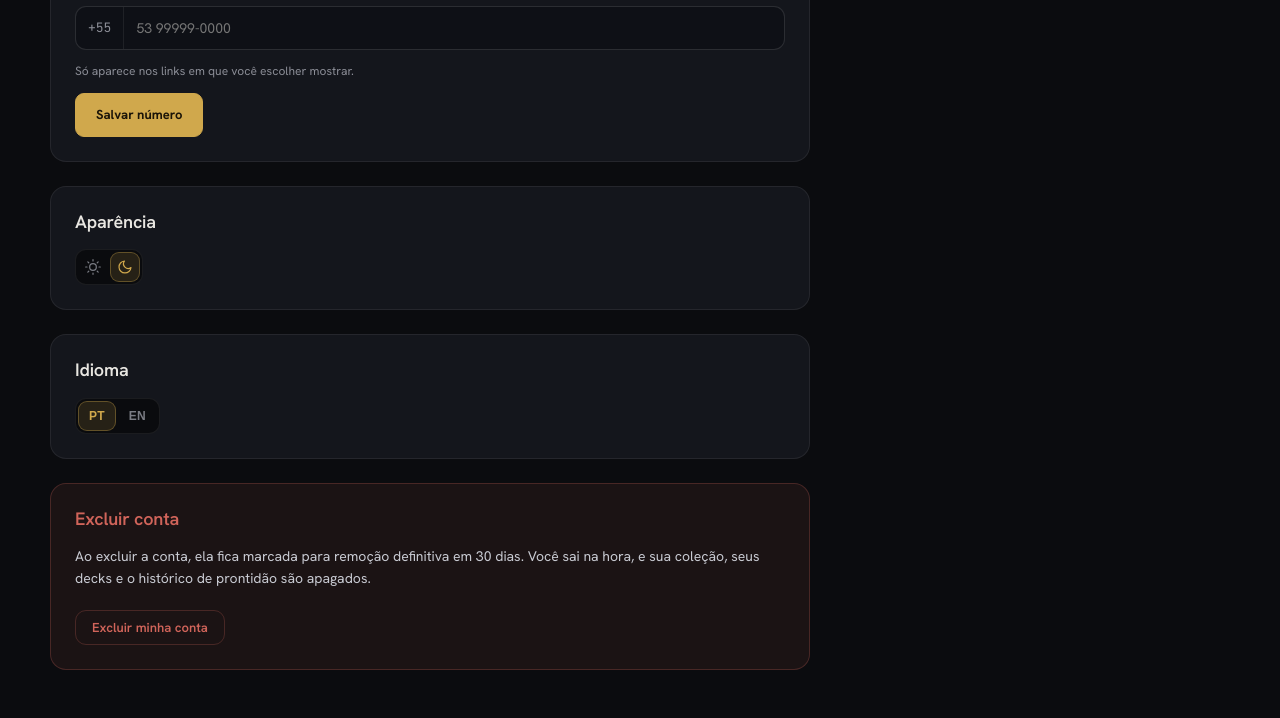
Test case: SettingsPage — Account section: delete modal trigger › opens the delete-account modal when the button is clicked
(page scrolled)
Click the button "Excluir minha conta" at (150, 627), box left=75, top=610, right=225, bottom=645
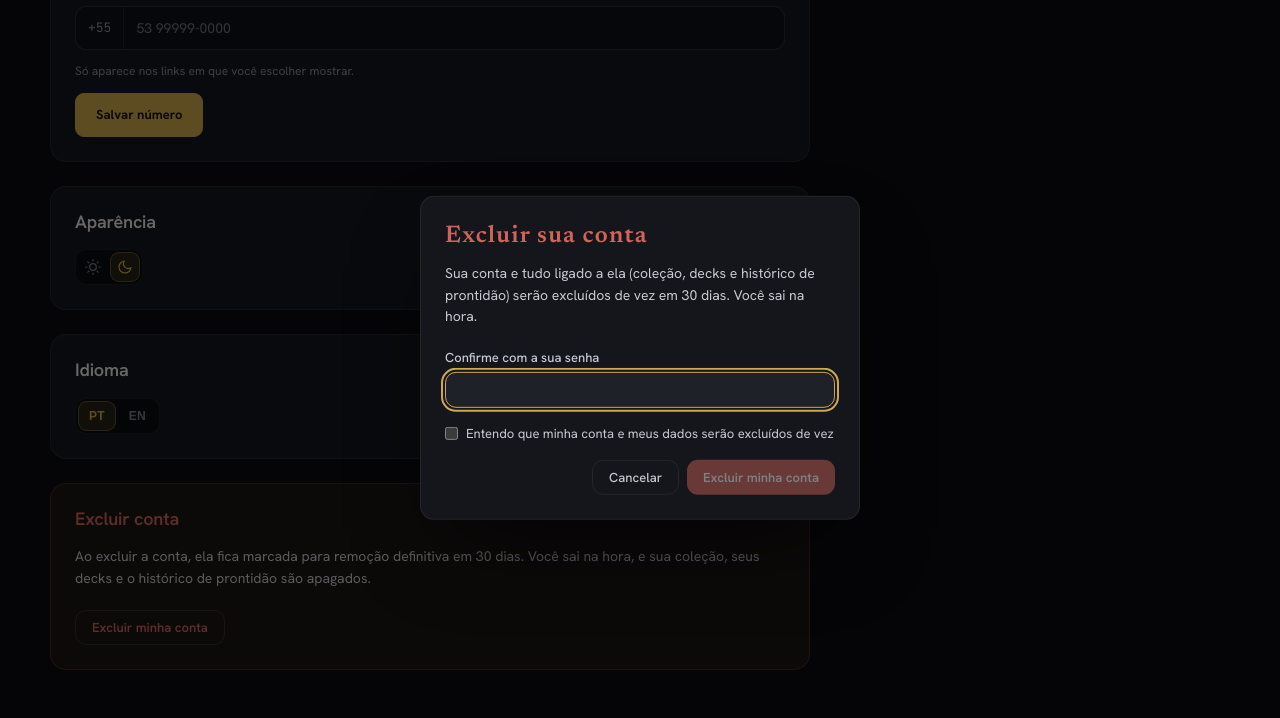
Expected: the dialog is shown, left=420, top=196, right=860, bottom=520
